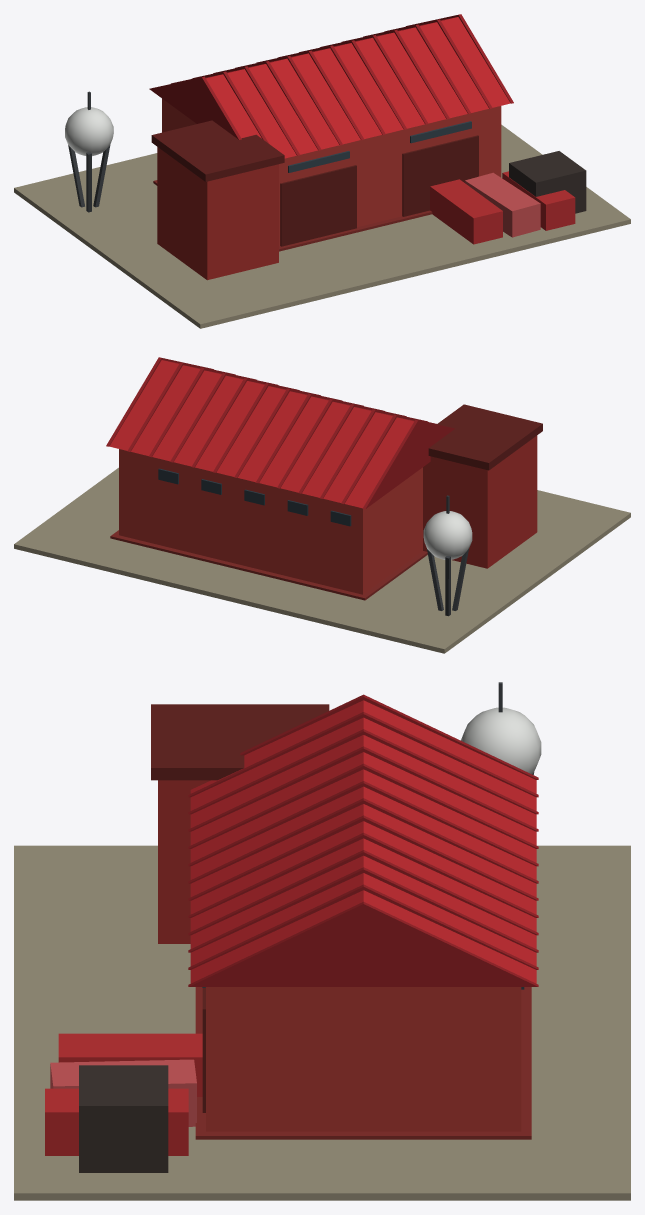
The model's file is enemy_hq.glb.
3 views of the same model, one above another, from view 1: azimuth 30°, elevation 25°; view 2: azimuth 150°, elevation 25°; view 3: azimuth 270°, elevation 25° (orthographic). The views are drawn at different scales.
Parts seen in each view (by area): view 1: _MeshInstance3D_56, _MeshInstance3D_59, _MeshInstance3D_82, _MeshInstance3D_57, _MeshInstance3D_73, _MeshInstance3D_83, _MeshInstance3D_75, _MeshInstance3D_84, _MeshInstance3D_87, _MeshInstance3D_85, _MeshInstance3D_60, _MeshInstance3D_92 (+15 smaller); view 2: _MeshInstance3D_56, _MeshInstance3D_57, _MeshInstance3D_59, _MeshInstance3D_82, _MeshInstance3D_83, _MeshInstance3D_60, _MeshInstance3D_58, _MeshInstance3D_92, _MeshInstance3D_69, _MeshInstance3D_71, _MeshInstance3D_62, _MeshInstance3D_67 (+8 smaller); view 3: _MeshInstance3D_56, _MeshInstance3D_59, _MeshInstance3D_57, _MeshInstance3D_72, _MeshInstance3D_87, _MeshInstance3D_83, _MeshInstance3D_82, _MeshInstance3D_58, _MeshInstance3D_84, _MeshInstance3D_86, _MeshInstance3D_92, _MeshInstance3D_85 (+12 smaller).
Boxes of the visible parts, x1,y1,x2,y2 form: _MeshInstance3D_56: (14, 124, 630, 328); _MeshInstance3D_59: (205, 17, 510, 158); _MeshInstance3D_82: (157, 147, 278, 280); _MeshInstance3D_57: (162, 98, 501, 246); _MeshInstance3D_73: (280, 165, 356, 246); _MeshInstance3D_83: (151, 120, 284, 181); _MeshInstance3D_75: (402, 135, 478, 216); _MeshInstance3D_84: (430, 179, 502, 244); _MeshInstance3D_87: (509, 151, 586, 213); _MeshInstance3D_85: (465, 172, 540, 237); _MeshInstance3D_60: (149, 76, 241, 139); _MeshInstance3D_92: (65, 107, 113, 156); _MeshInstance3D_56: (14, 467, 630, 653); _MeshInstance3D_57: (119, 449, 422, 594); _MeshInstance3D_59: (109, 360, 414, 508); _MeshInstance3D_82: (423, 435, 537, 568); _MeshInstance3D_83: (428, 404, 542, 470); _MeshInstance3D_60: (362, 420, 455, 509); _MeshInstance3D_58: (110, 530, 427, 600); _MeshInstance3D_92: (423, 511, 472, 559); _MeshInstance3D_69: (170, 373, 278, 462); _MeshInstance3D_71: (127, 362, 235, 451); _MeshInstance3D_62: (320, 409, 427, 498); _MeshInstance3D_67: (213, 383, 320, 472); _MeshInstance3D_56: (14, 845, 630, 1200); _MeshInstance3D_59: (190, 700, 536, 983); _MeshInstance3D_57: (206, 987, 521, 1131); _MeshInstance3D_72: (188, 901, 538, 986); _MeshInstance3D_87: (79, 1065, 168, 1172); _MeshInstance3D_83: (151, 704, 329, 780); _MeshInstance3D_82: (158, 780, 210, 943); _MeshInstance3D_58: (195, 987, 531, 1139); _MeshInstance3D_84: (58, 1033, 202, 1096); _MeshInstance3D_86: (45, 1088, 188, 1155); _MeshInstance3D_92: (461, 707, 541, 774); _MeshInstance3D_85: (50, 1059, 196, 1126).
Size of the model in its own units: 12 by 3.99 by 9.
